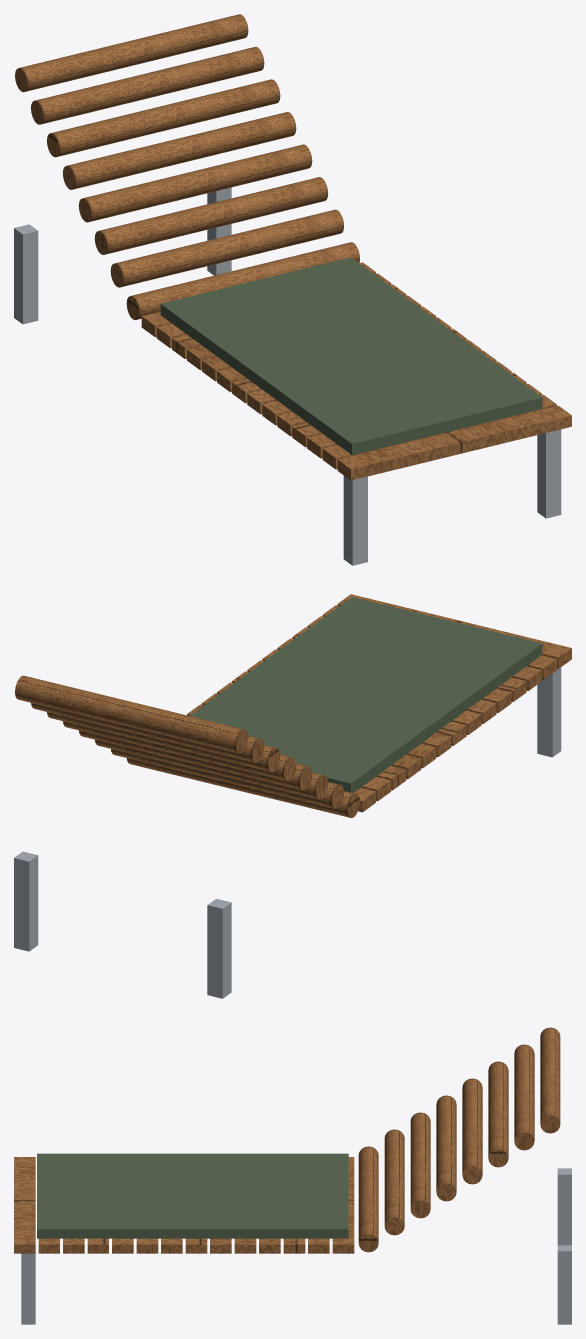
The model's file is Napozoagy.obj.
The picture shows the model from 3 angles, top to bottom: view 1: azimuth 30°, elevation 25°; view 2: azimuth 150°, elevation 25°; view 3: azimuth 270°, elevation 25°; orthographic projection. The views are drawn at different scales.
Size of the model in its own units: 0.72 by 0.81 by 1.94.
3 materials, 1 textured.
